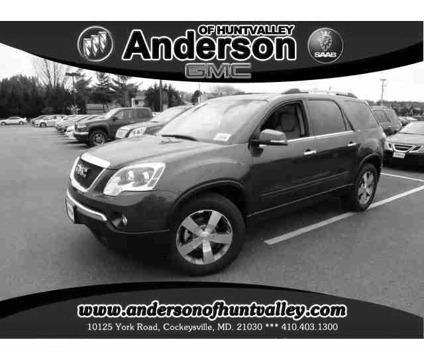car: (65, 91, 391, 278)
